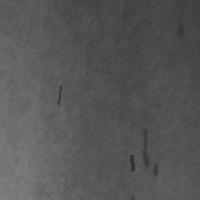inclusion: (138, 125, 162, 180), (173, 17, 187, 39), (56, 84, 62, 106), (129, 153, 134, 172)
